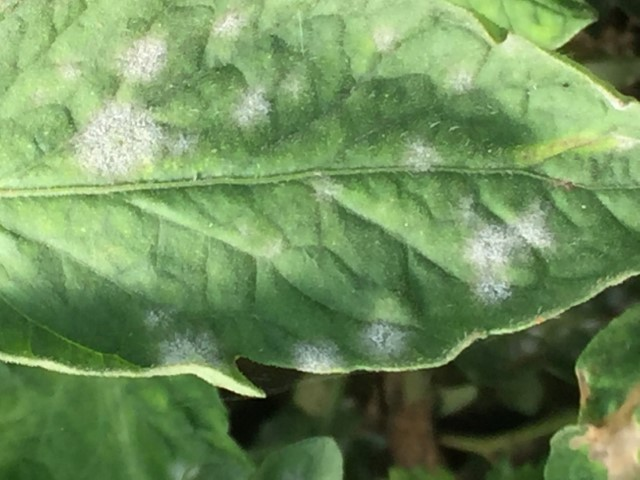oidio: (74, 99, 165, 176), (464, 197, 553, 269), (155, 331, 223, 369), (116, 35, 169, 83), (287, 334, 346, 374), (358, 320, 413, 361), (234, 87, 272, 125), (405, 135, 440, 173), (472, 277, 511, 305), (210, 11, 245, 40), (141, 304, 180, 329), (310, 176, 344, 202), (440, 64, 471, 91), (170, 129, 197, 156), (611, 131, 640, 153), (370, 24, 394, 49), (283, 75, 305, 99), (59, 63, 85, 80), (456, 192, 472, 218)
